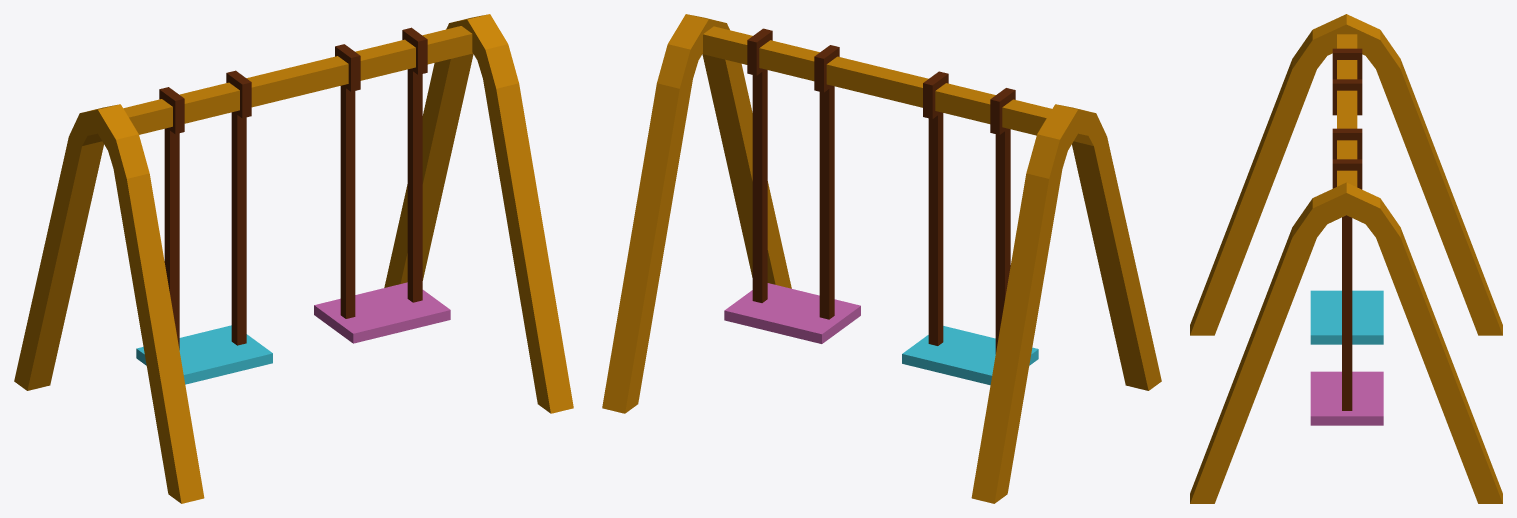
File: Child Swing 2 Fractured.fbx
3 renders of one model, left to right at view 1: azimuth 30°, elevation 25°; view 2: azimuth 150°, elevation 25°; view 3: azimuth 270°, elevation 25°, orthographic. The views are drawn at different scales.
Parts seen in each view (by area): view 1: Child_Swing_02_Breaking, Child_Swing_02_Breaking.001; view 2: Child_Swing_02_Breaking, Child_Swing_02_Breaking.001; view 3: Child_Swing_02_Breaking.001, Child_Swing_02_Breaking.
Boxes of the visible parts, x1,y1,x2,y2 form: Child_Swing_02_Breaking: [14, 69, 308, 503]; Child_Swing_02_Breaking.001: [282, 14, 573, 413]; Child_Swing_02_Breaking: [866, 70, 1161, 503]; Child_Swing_02_Breaking.001: [602, 14, 893, 413]; Child_Swing_02_Breaking.001: [1190, 110, 1502, 503]; Child_Swing_02_Breaking: [1190, 14, 1502, 344].
Bounding box in the file's own units: 173 × 141 × 128.
